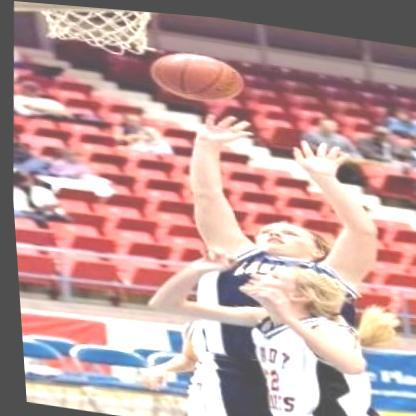basketball: (143, 38, 250, 111)
